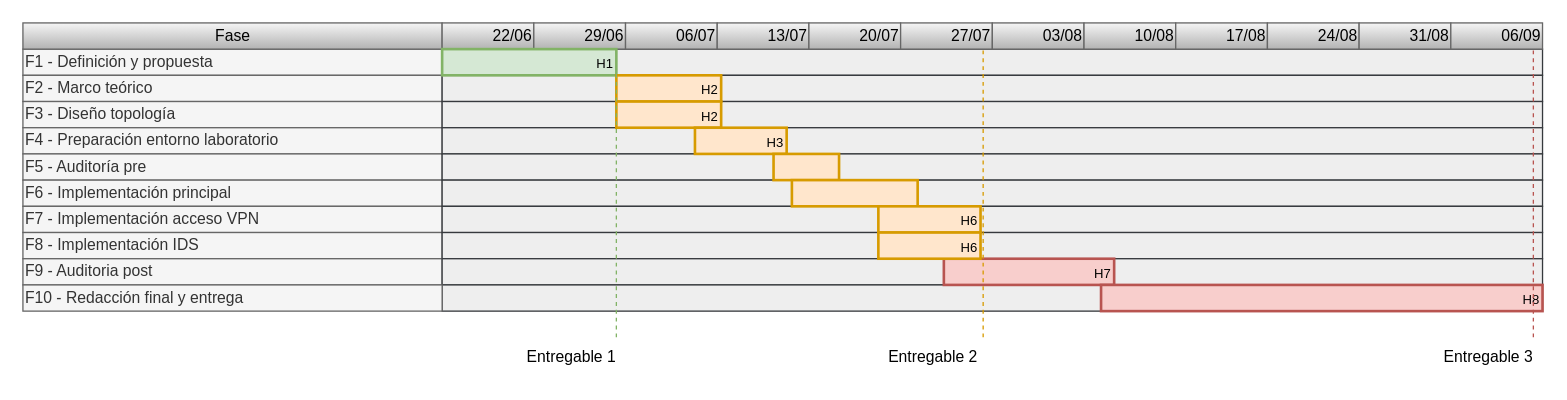
Image size: 1567x400. Some labels were removed from this diagram. Each missing label, with the box of its shape:
H4: (772, 152, 840, 181)
H5: (790, 178, 918, 207)
